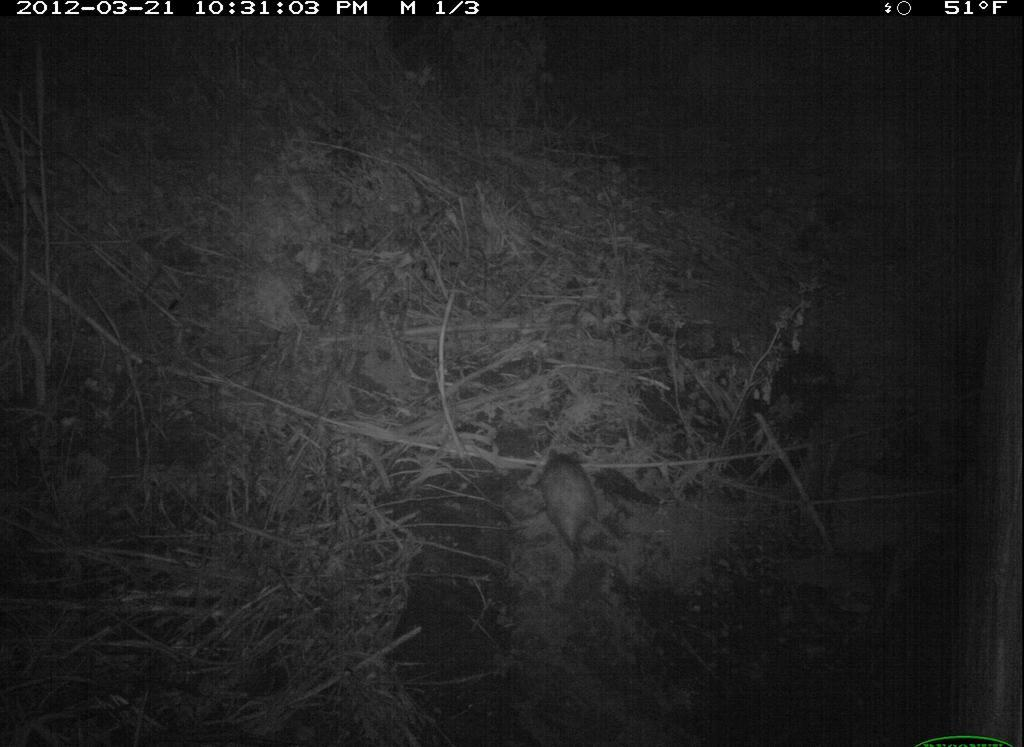opossum: (536, 440, 614, 579)
